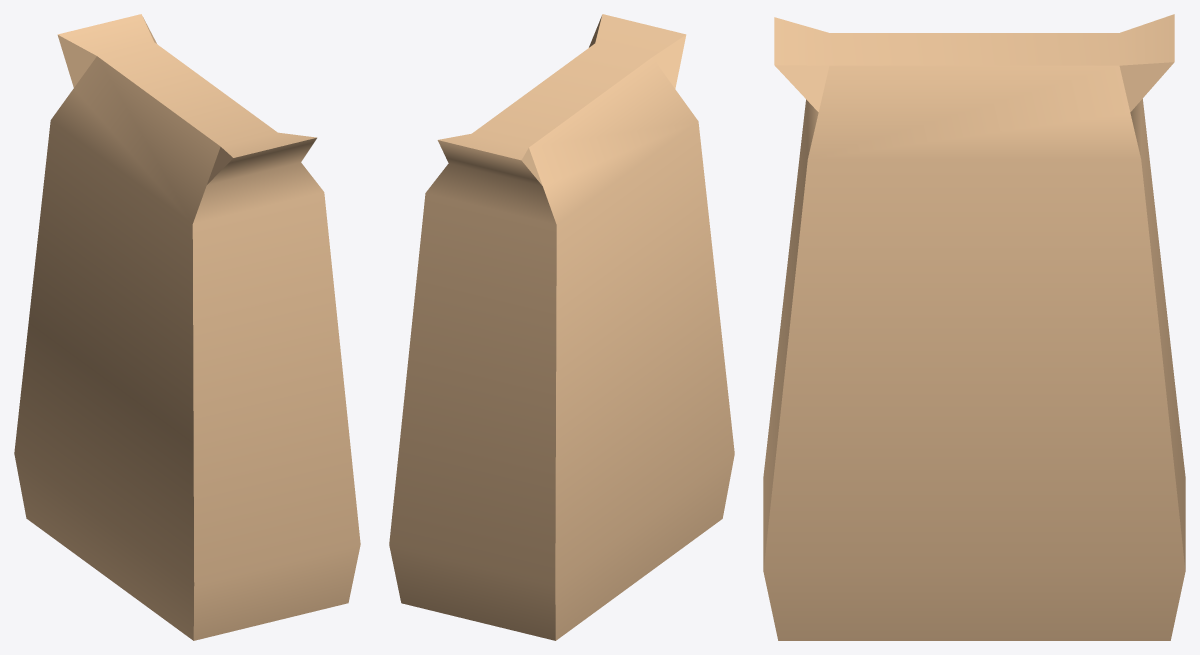
Rendered from bag.dae.
The picture shows the model from 3 angles, left to right: view 1: azimuth 30°, elevation 25°; view 2: azimuth 150°, elevation 25°; view 3: azimuth 270°, elevation 25°; orthographic projection. The views are drawn at different scales.
Visible parts, largest first — view 1: bag; view 2: bag; view 3: bag.
Boxes of the visible parts, box(x1,y1,x2,y2) form: bag: box(14, 14, 360, 640); bag: box(389, 14, 734, 640); bag: box(763, 14, 1185, 640).
Bounding box in the file's own units: 0.2201 × 0.5998 × 0.4118.
